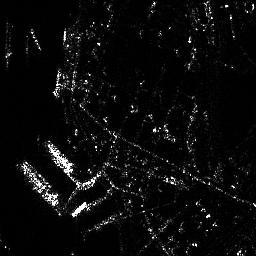ship: (15, 160, 58, 205), (44, 140, 75, 173)
